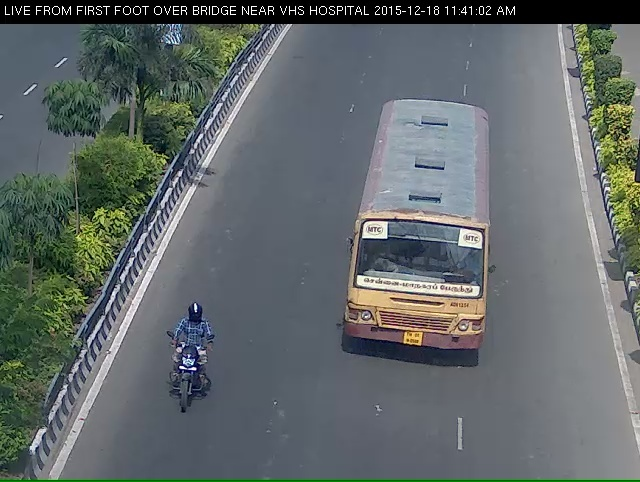Bus: (352, 105, 496, 385)
Person: (144, 329, 218, 446)
